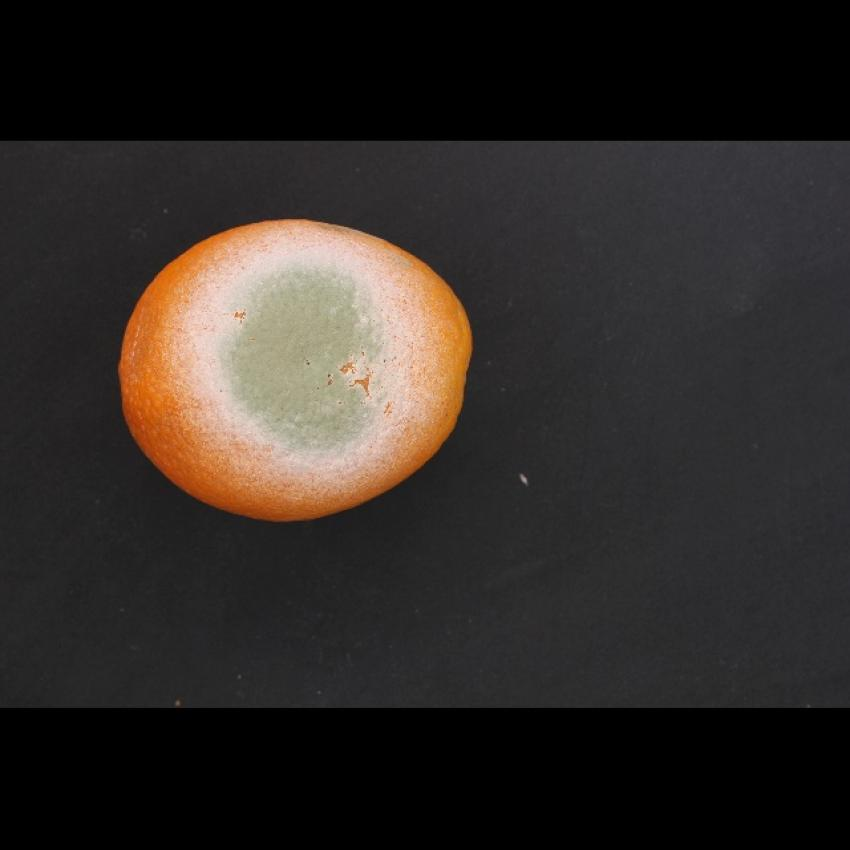Mal estado: (107, 208, 488, 530)
